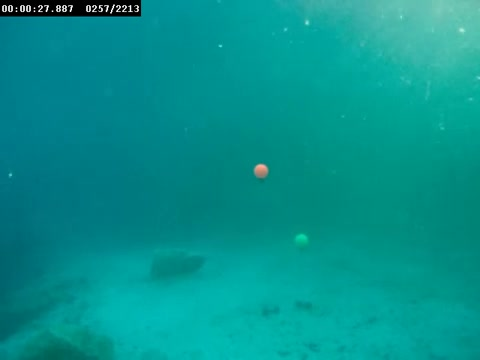buoy_green: (293, 232, 309, 252)
buoy_red: (252, 162, 269, 183)
